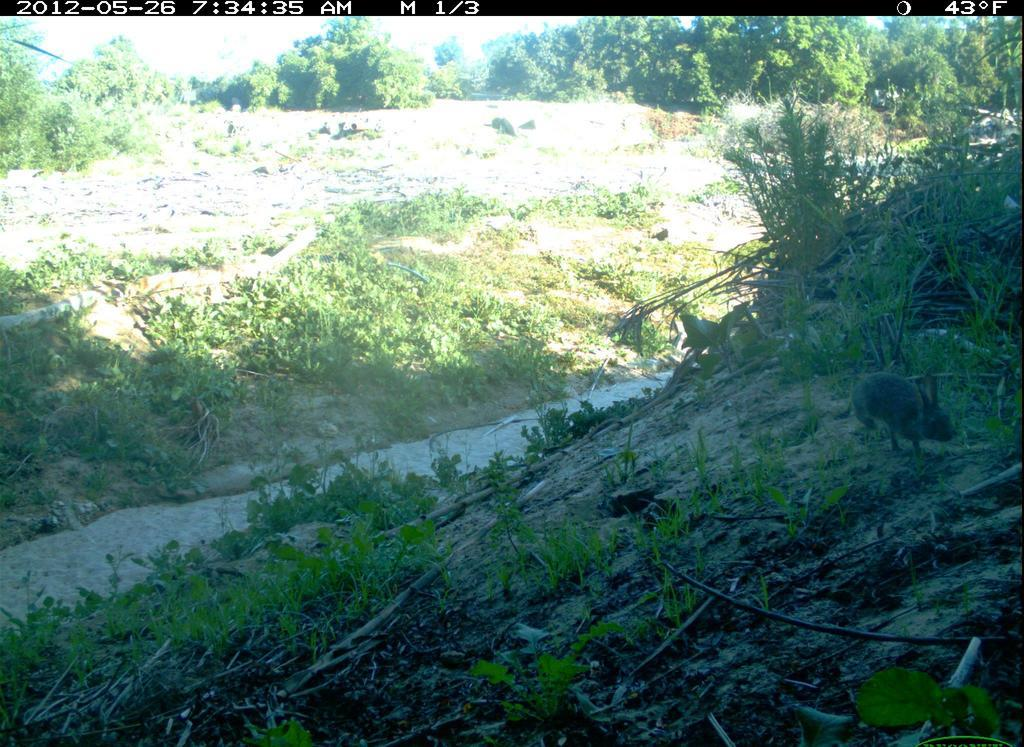rabbit: (848, 356, 966, 461)
